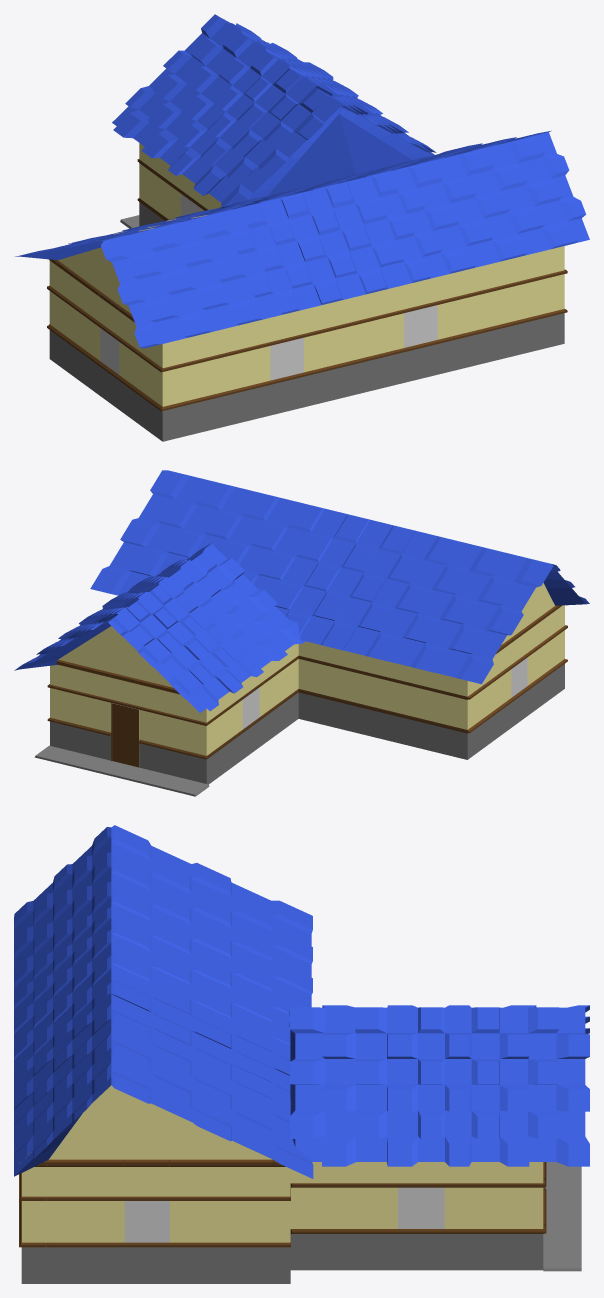
The model's file is casa03.fbx.
3 views of the same model, one above another, from view 1: azimuth 30°, elevation 25°; view 2: azimuth 150°, elevation 25°; view 3: azimuth 270°, elevation 25° (orthographic). The views are drawn at different scales.
Parts seen in each view (by area): view 1: Cube; view 2: Cube; view 3: Cube.
Part boxes in pixels (<box>): Cube: <box>15,14,589,441</box>; Cube: <box>14,470,589,796</box>; Cube: <box>14,825,589,1283</box>.
Size of the model in its own units: 1364 by 519 by 1261.
